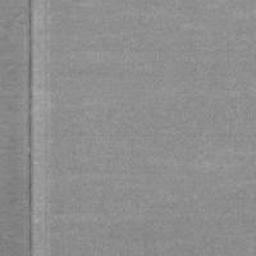Welding line: (28, 0, 32, 256)
